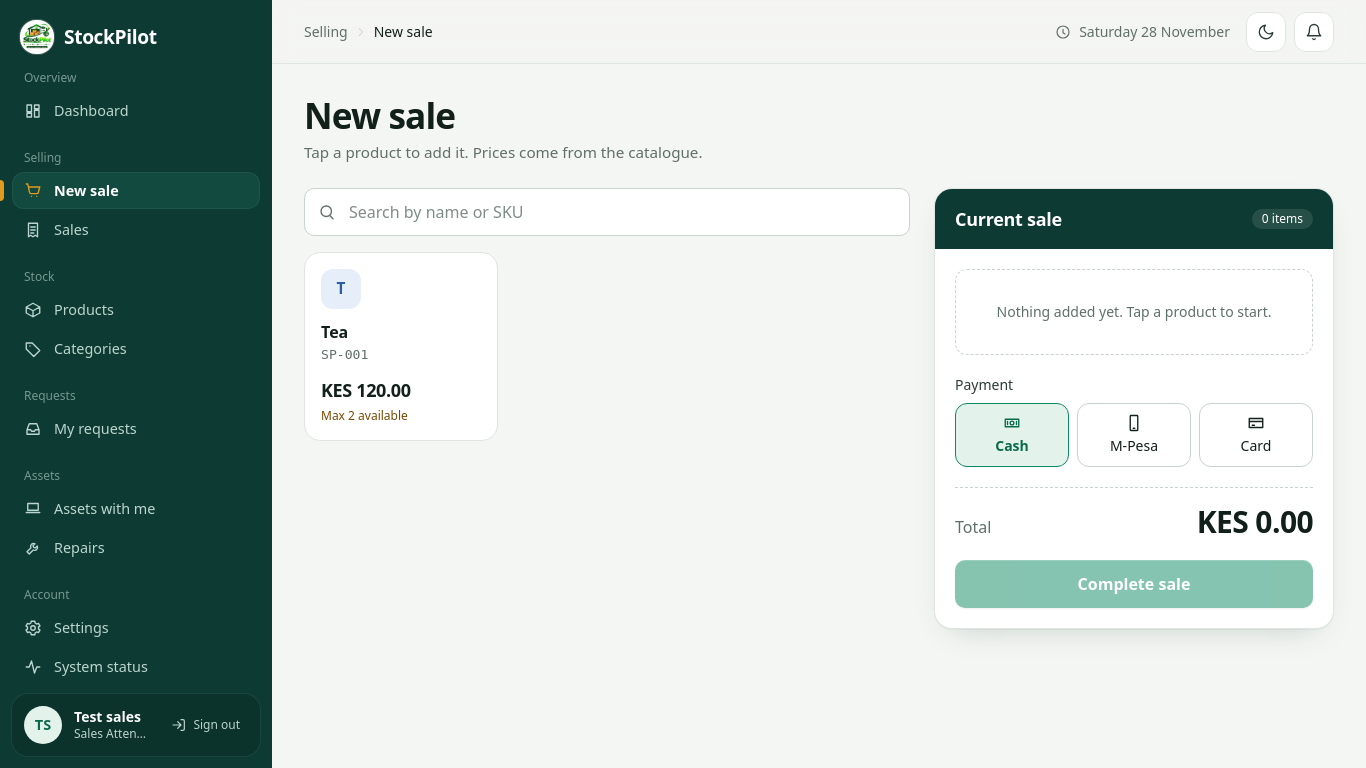
point of sale › shows the server's message when stock ran out meanwhile
Click the button with aria-label "Add Tea" at x=401, y=346, box [304, 252, 498, 441]
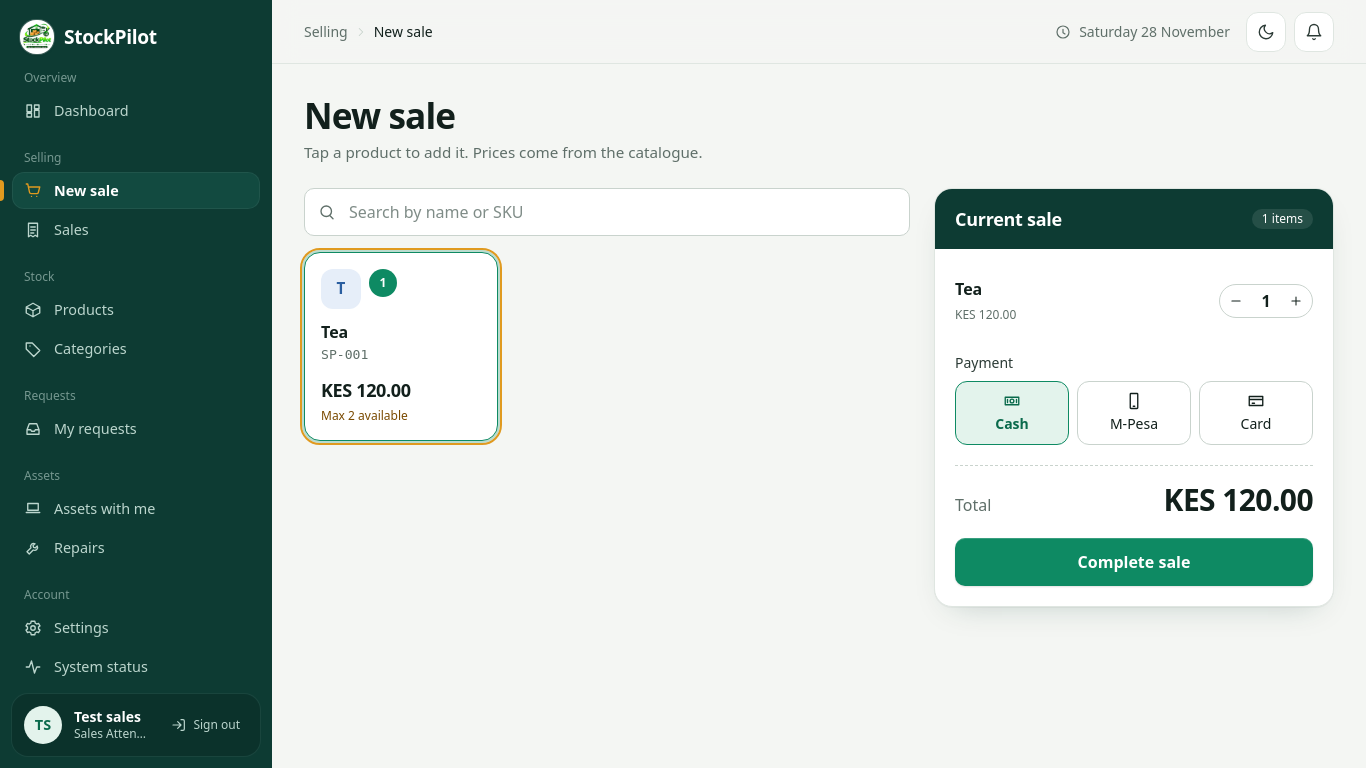
Click the button "Complete sale" at x=1134, y=562, box [955, 538, 1313, 586]
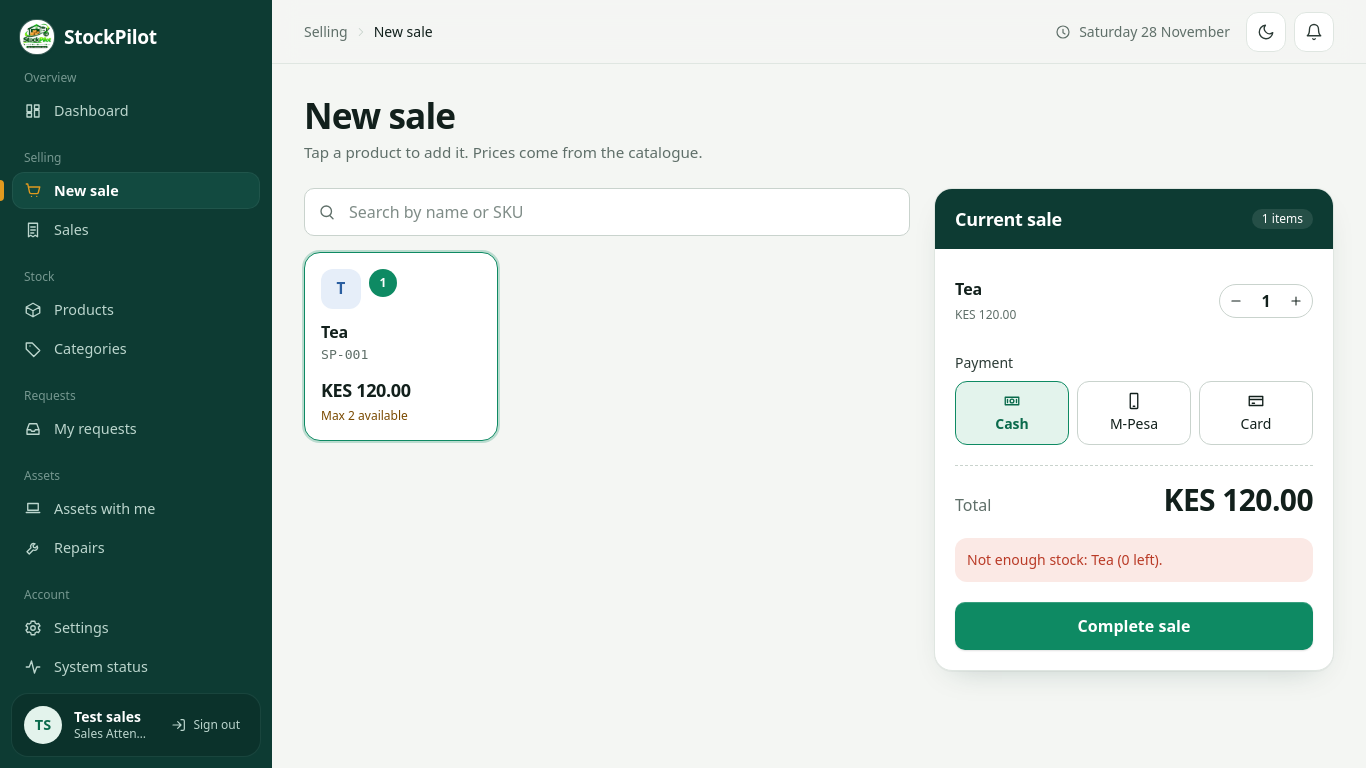
Expected: the text with test id "qty-1" reads "1", [1261, 290, 1271, 312]
Expected: the message reads "Not enough stock: Tea (0 left).", [967, 550, 1163, 568]
